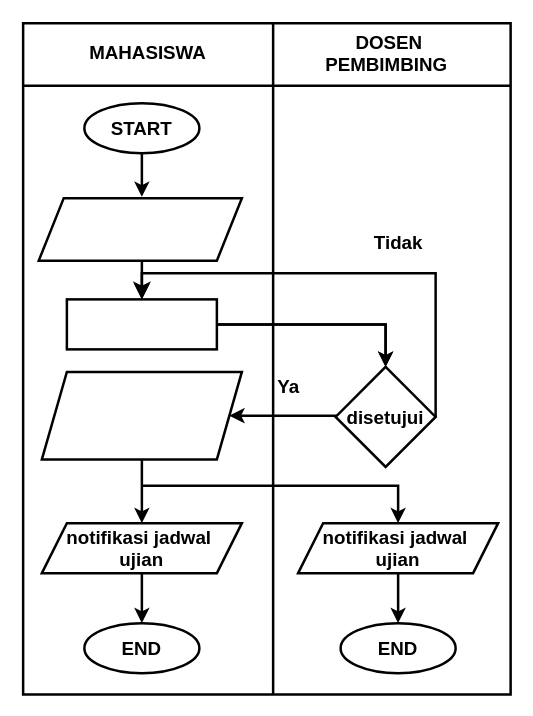
Some shapes in this 533 by 716 pixel diagram are drawn without their labels. The shapes that lost their labels are listed below. From the top down, each one's centre as x and y in pixels, then its label:
At [139,228]: "notifikasi judul diterima".
At [141,324]: "Bimbingan".
At [141,415]: "berita acara bimbingan".
